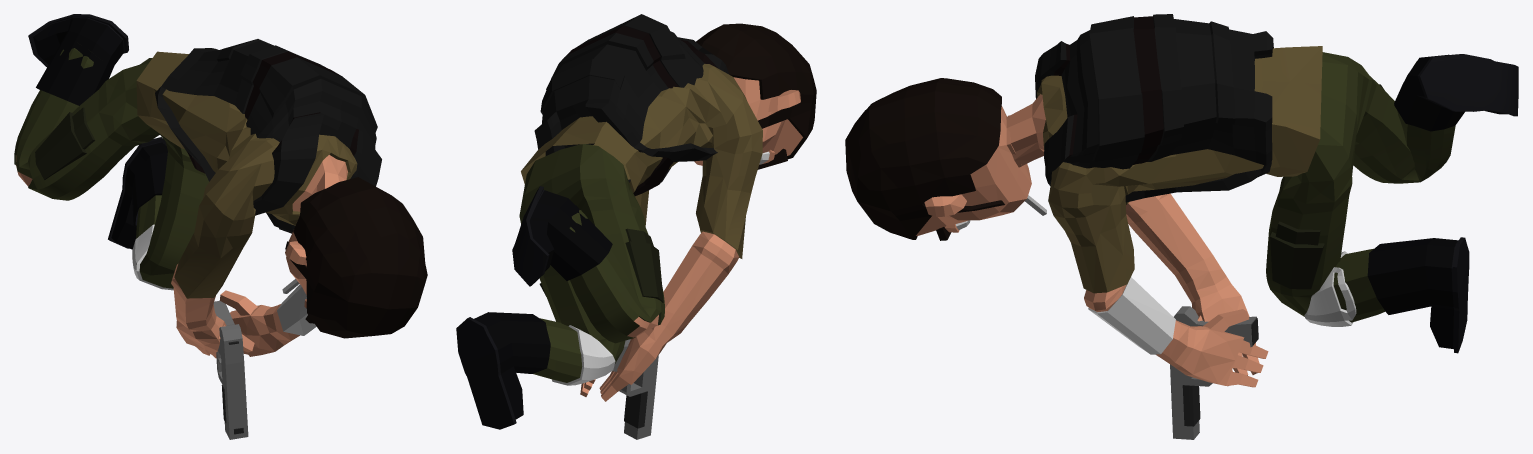
File: frame_0035.obj
3 views of the same model, side by side, from view 1: azimuth 30°, elevation 25°; view 2: azimuth 150°, elevation 25°; view 3: azimuth 270°, elevation 25° (orthographic). The views are drawn at different scales.
Parts seen in each view (by area): view 1: Body, Gun; view 2: Body, Gun; view 3: Body, Gun.
Boxes of the visible parts, <box> form: Body: <box>14,14,427,358</box>; Gun: <box>213,300,248,439</box>; Body: <box>456,14,816,429</box>; Gun: <box>612,339,658,439</box>; Body: <box>845,14,1518,387</box>; Gun: <box>1170,306,1258,439</box>.
Size of the model in its own units: 1.42 by 2.39 by 3.4.
